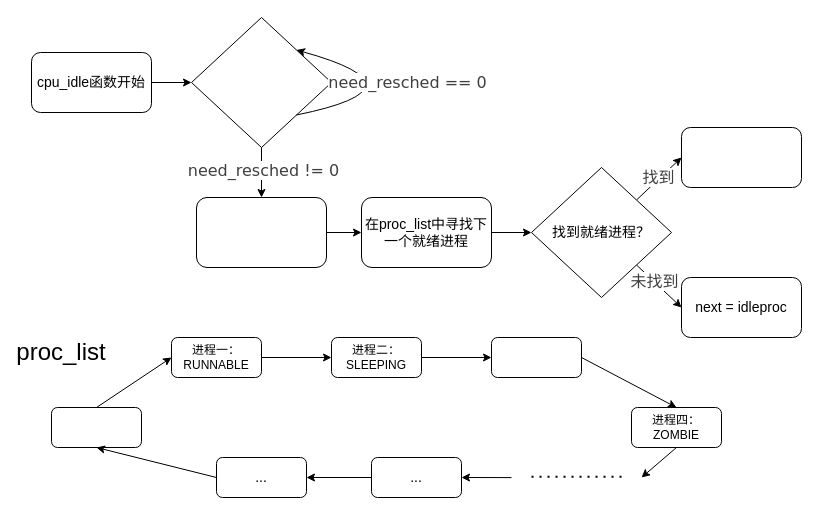
This 819x515 diagram has some shape labels left out. Here are the shapes that lost their labels. From the top down, the box of each, then its label:
(190, 16, 332, 148): 检查当前进程的 need_resched
(680, 126, 802, 188): next = 找到的就绪进程
(196, 196, 326, 268): 进入schedule函数，设置当前need_resched = 0
(490, 336, 582, 378): 进程三： RUNNABLE
(50, 406, 142, 448): 链表头节点
